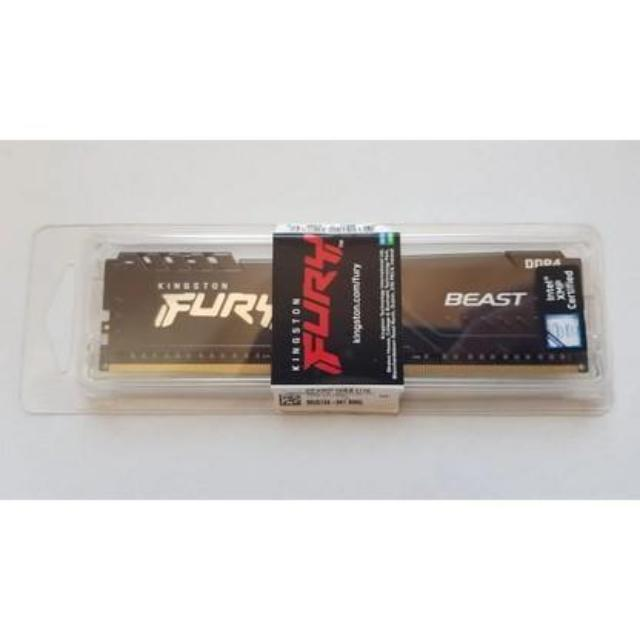RAM: (93, 223, 599, 394)
